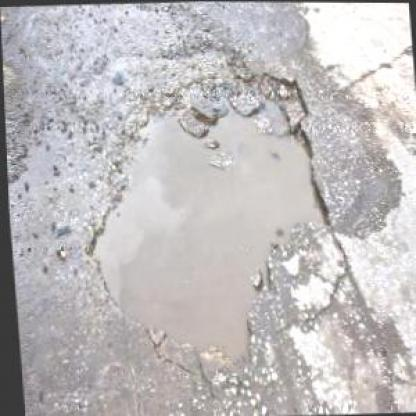pothole: (70, 66, 340, 376)
